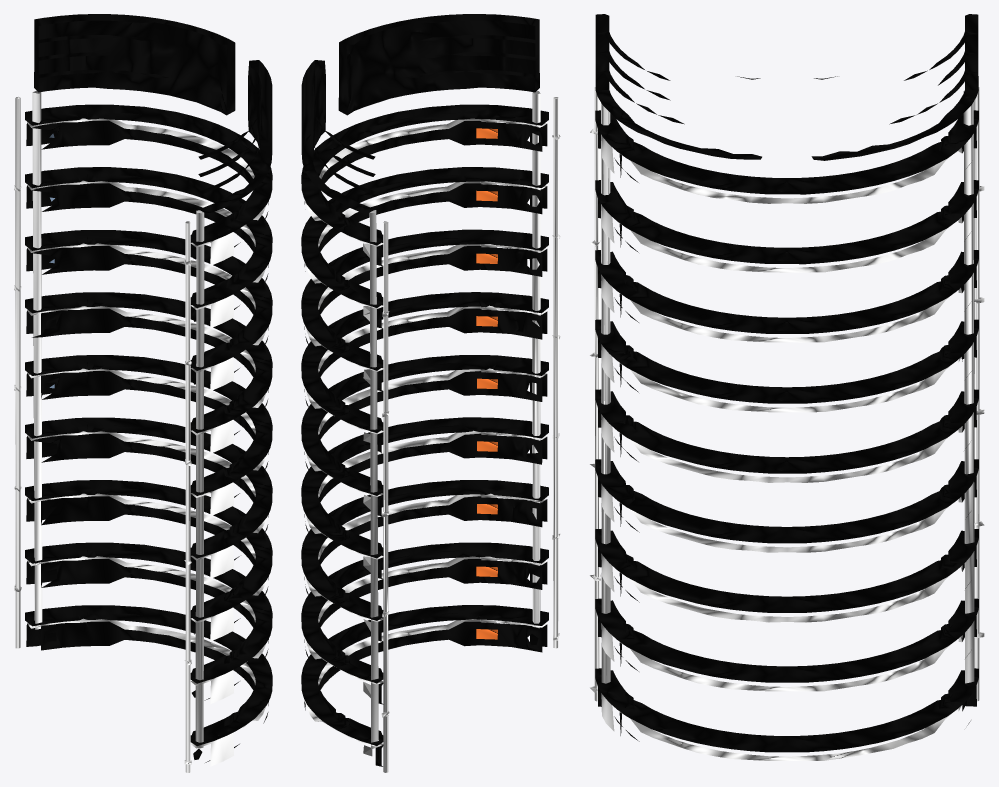
File: hangar_business_v2_elevator_magnets_01.glb
3 views of the same model, side by side, from view 1: azimuth 30°, elevation 25°; view 2: azimuth 150°, elevation 25°; view 3: azimuth 270°, elevation 25° (orthographic). The views are drawn at different scales.
Size of the model in its own units: 2.59 by 10.39 by 5.33.
